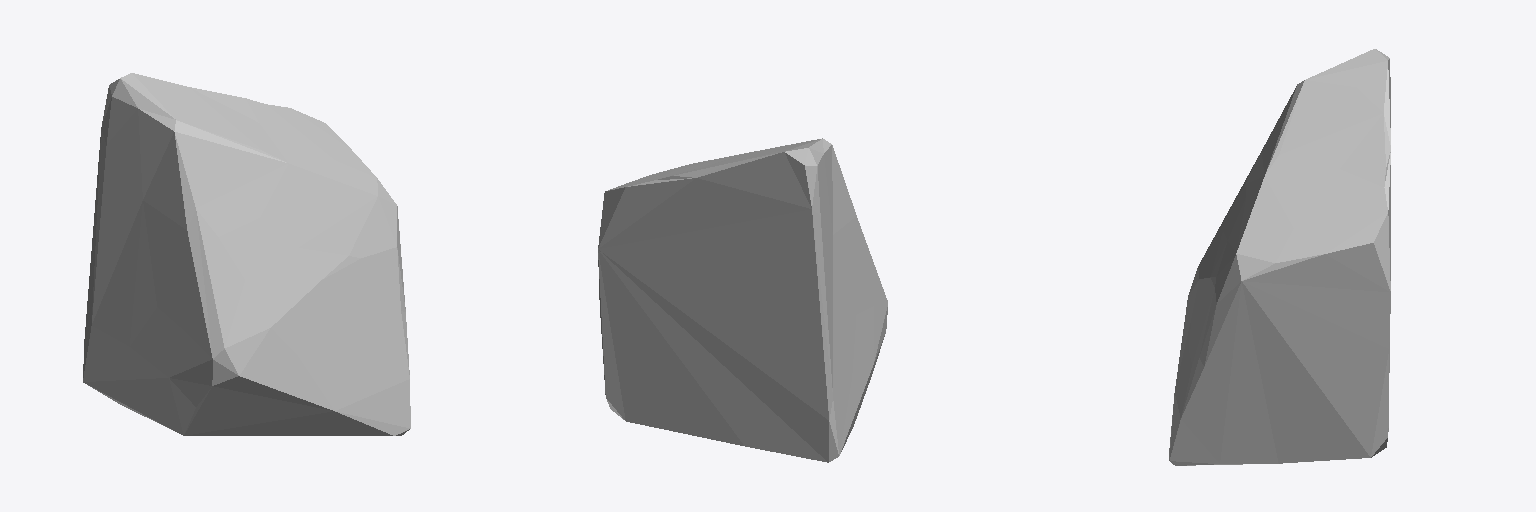
File: rock.obj
3 views of the same model, side by side, from view 1: azimuth 30°, elevation 25°; view 2: azimuth 150°, elevation 25°; view 3: azimuth 270°, elevation 25° (orthographic).
Visible parts, largest first — view 1: rock_low; view 2: rock_low; view 3: rock_low.
Boxes of the visible parts, x1=… form: rock_low: x1=83, y1=73, x2=410, y2=435; rock_low: x1=598, y1=138, x2=887, y2=462; rock_low: x1=1169, y1=49, x2=1390, y2=465.
Size of the model in its own units: 6.36 by 8.18 by 5.01.